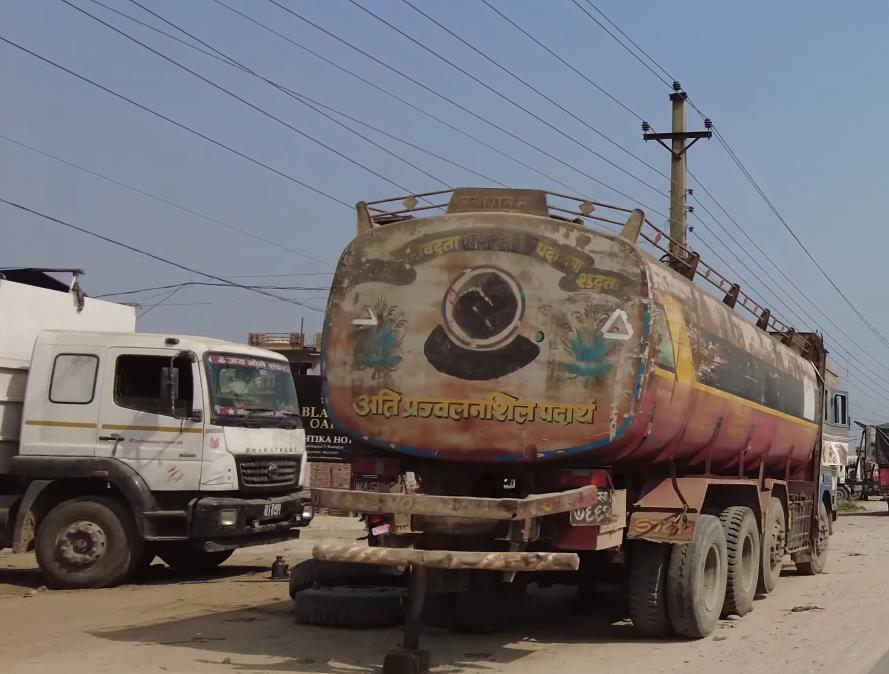truck: (284, 186, 840, 640), (0, 248, 322, 593)
